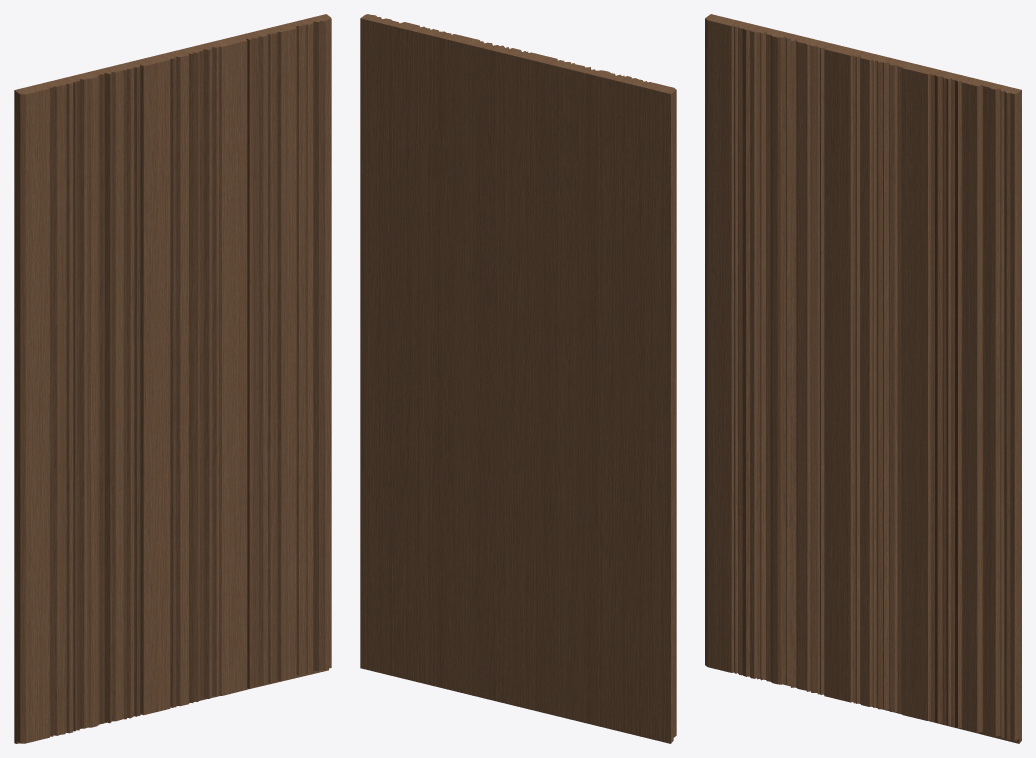
3 renders of one model, left to right at view 1: azimuth 30°, elevation 25°; view 2: azimuth 150°, elevation 25°; view 3: azimuth 330°, elevation 25°, orthographic.
Parts seen in each view (by area): view 1: M_W_002_미정001; view 2: M_W_002_미정001; view 3: M_W_002_미정001.
Boxes of the visible parts, x1,y1,x2,y2 form: M_W_002_미정001: (14, 14, 331, 743); M_W_002_미정001: (360, 14, 676, 743); M_W_002_미정001: (705, 14, 1021, 743).
Size of the model in its own units: 4 by 8.01 by 0.1745.
Materials: 1 (1 with a texture image).
